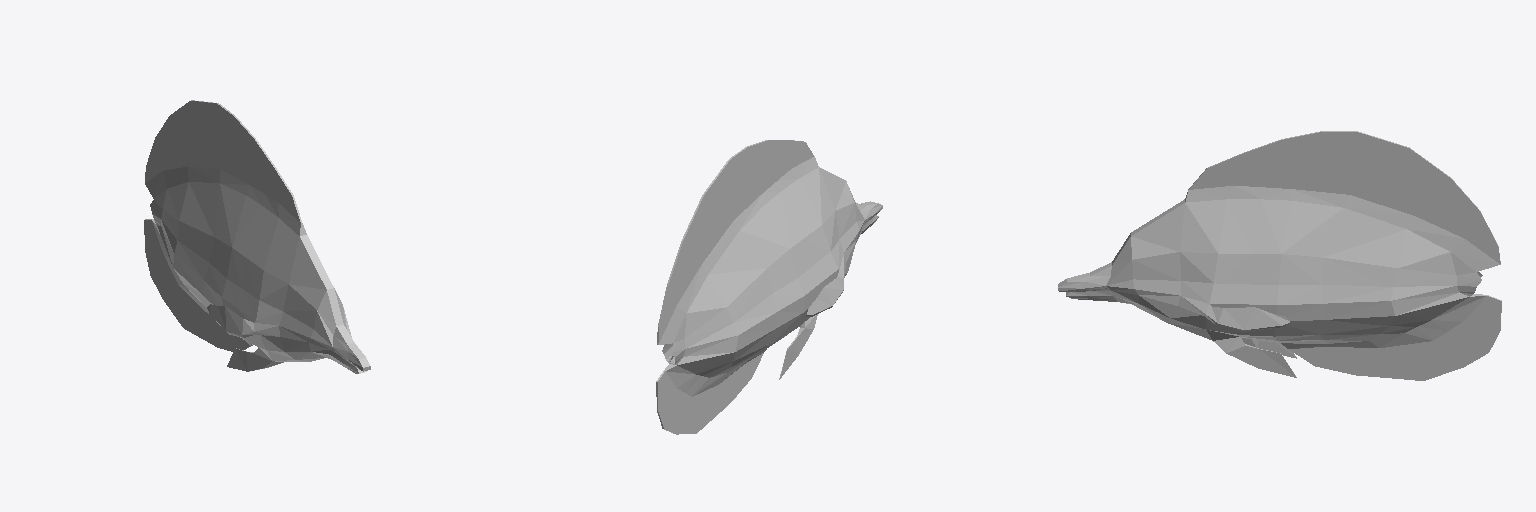
File: cuerpo.obj
3 views of the same model, side by side, from view 1: azimuth 30°, elevation 25°; view 2: azimuth 150°, elevation 25°; view 3: azimuth 270°, elevation 25° (orthographic).
Parts seen in each view (by area): view 1: polySurface14 polySurface13 TropicalFish05; view 2: polySurface14 polySurface13 TropicalFish05; view 3: polySurface14 polySurface13 TropicalFish05.
Part boxes in pixels (bbox=[...]): polySurface14 polySurface13 TropicalFish05: bbox=[144, 100, 370, 373]; polySurface14 polySurface13 TropicalFish05: bbox=[656, 140, 882, 434]; polySurface14 polySurface13 TropicalFish05: bbox=[1058, 131, 1501, 380].
Bounding box in the file's own units: 0.6996 × 1.76 × 2.83.